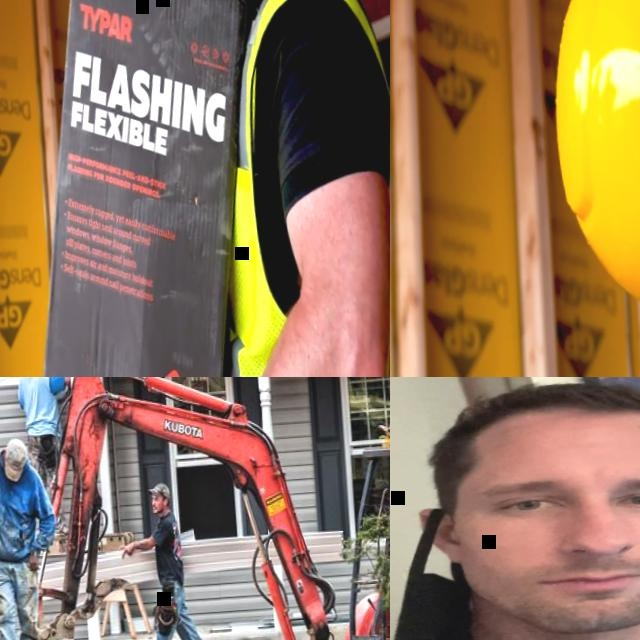Hardhat: (539, 0, 640, 377)
NO-Hardhat: (413, 377, 640, 461), (3, 438, 30, 478), (148, 482, 172, 498)
NO-Mask: (428, 515, 640, 640), (152, 503, 165, 513)
NO-Safety Vest: (0, 452, 34, 558), (154, 516, 185, 579), (22, 377, 56, 434)
Person: (98, 0, 390, 377), (390, 377, 640, 640), (541, 0, 640, 377), (113, 478, 211, 640), (0, 435, 69, 640), (12, 377, 80, 534)
Safety Vest: (189, 0, 390, 377)
machinery: (16, 377, 390, 640)
